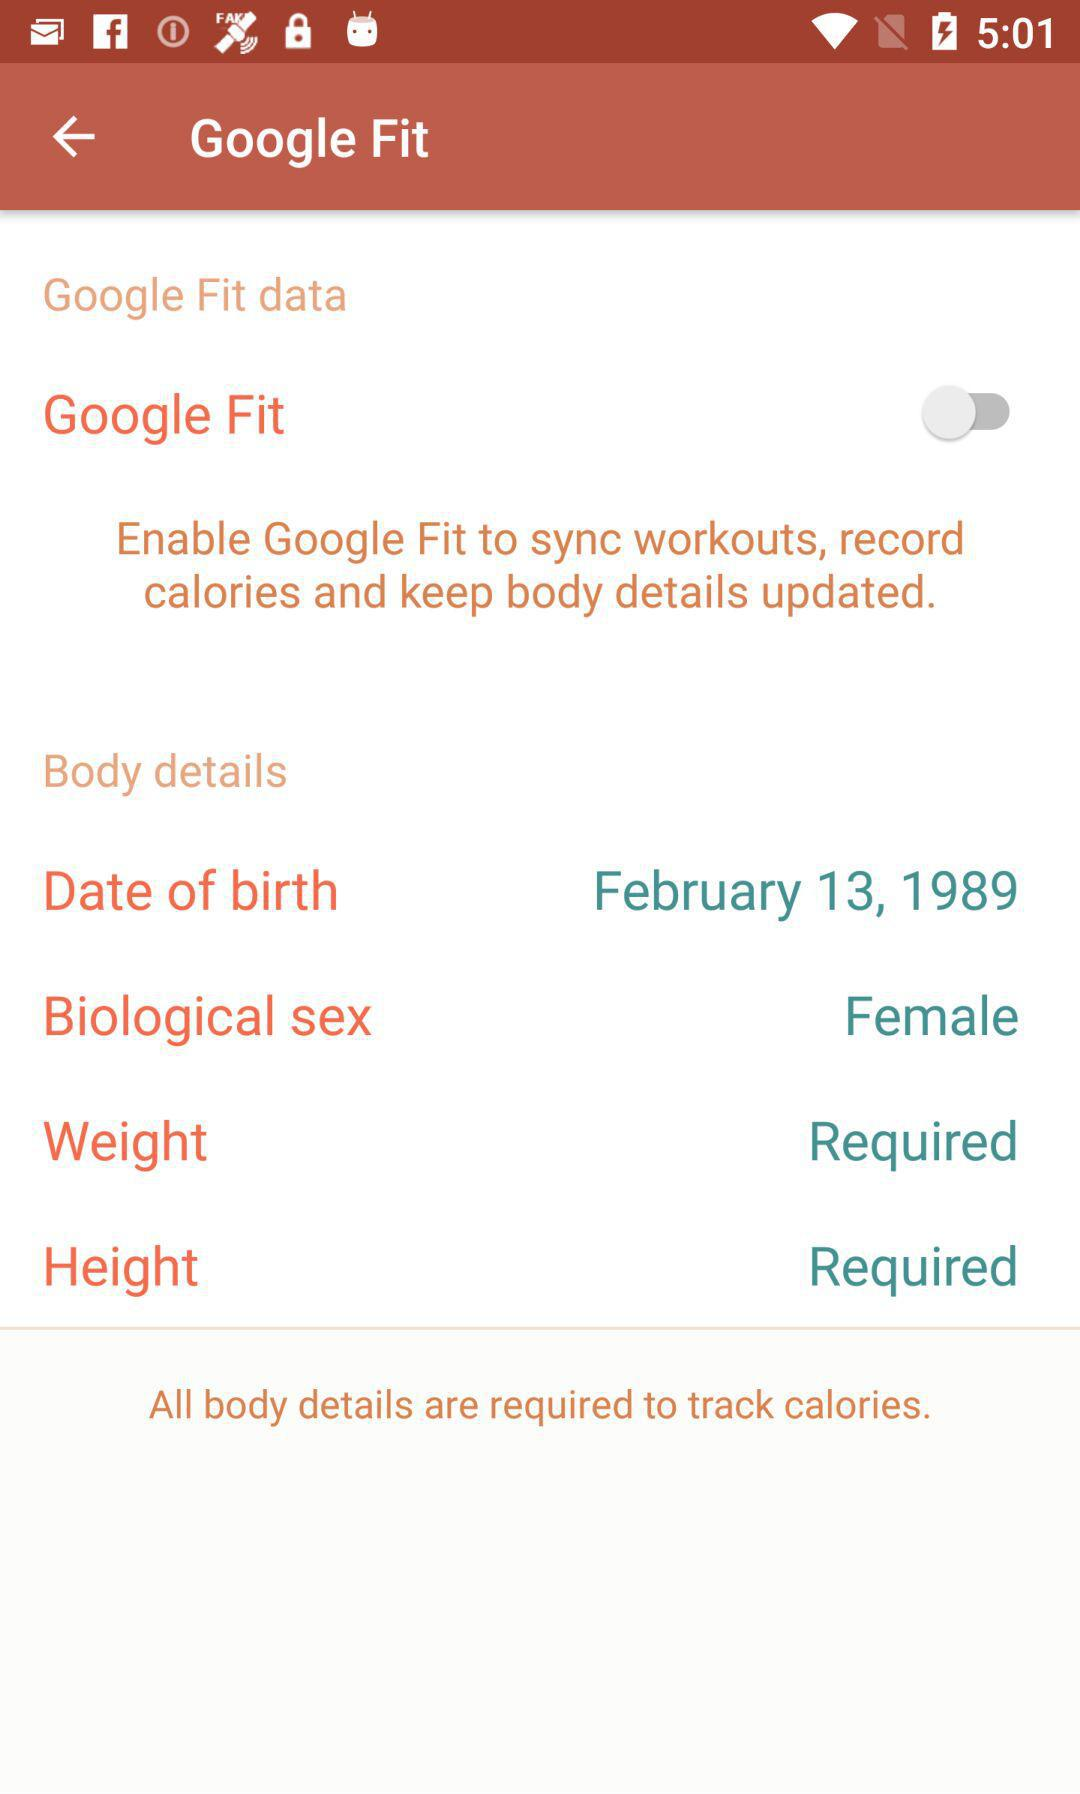Icon: (51, 115, 97, 159)
Switch: (920, 384, 1011, 442)
Text: (119, 519, 963, 619), (149, 1387, 930, 1428), (597, 868, 1019, 923), (46, 993, 374, 1047), (44, 277, 347, 322), (45, 392, 287, 447), (46, 868, 338, 912), (191, 117, 430, 170), (811, 1243, 1016, 1298), (46, 752, 288, 798), (812, 1119, 1017, 1173), (44, 1119, 209, 1173), (46, 1243, 200, 1298), (847, 993, 1019, 1037)
Toolbar: (1, 62, 1080, 211)
UpperTaskBar: (1, 1, 1080, 64)
